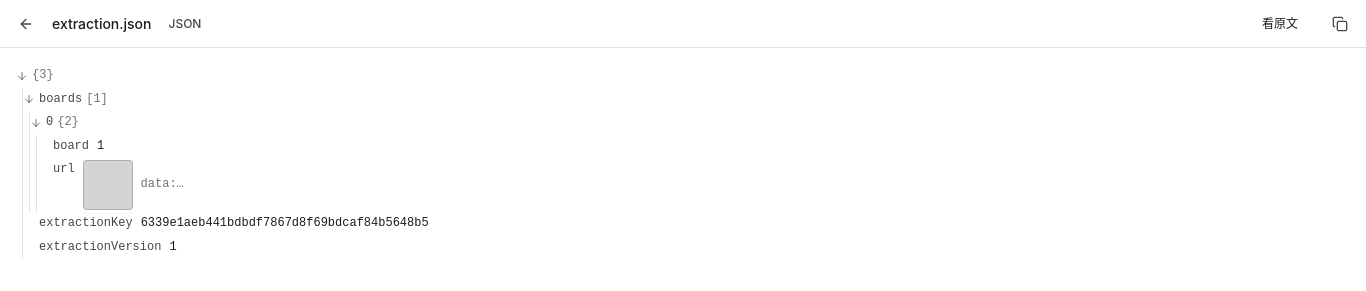
Scenario: WorkspaceFilesPanel 阅读 › JSON 排成树，图片地址是缩略图；「看原文」切到带行号的原文
This screenshot has width=1366, height=291.
Expected: the button with aria-label "收起 boards" is shown, 23,88 -> 116,111
What coordinates should you click on to do the following:
click the button "看原文"
I would click on:
 (1280, 24)
Its box is 1246,6 -> 1314,42.
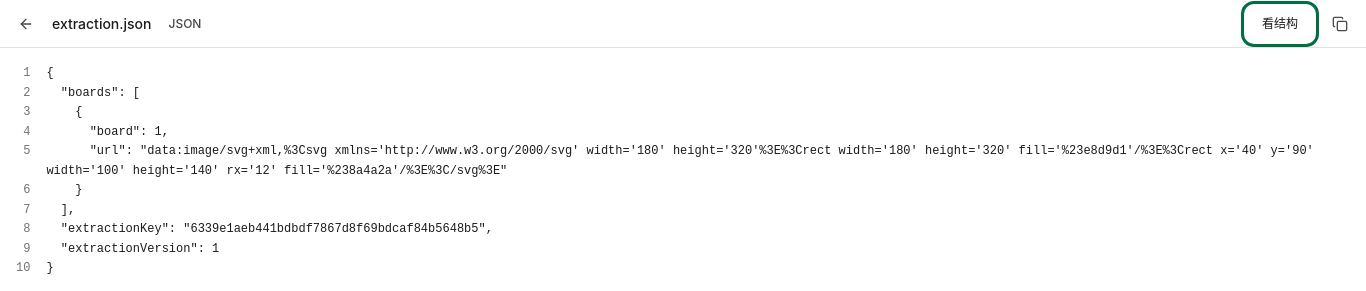
Expected: the text "\"board\": 1," is shown, 46,124 -> 169,138
Expected: the button "看结构" is shown, 1246,6 -> 1314,42
